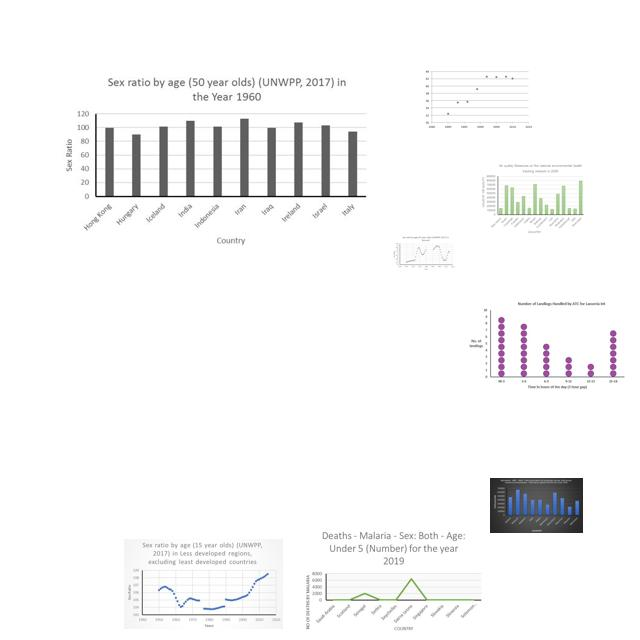Graph: (62, 72, 369, 246), (300, 527, 486, 635), (464, 298, 628, 393), (124, 539, 283, 629), (479, 160, 585, 236), (422, 64, 538, 132), (490, 478, 583, 533), (392, 235, 455, 271)
